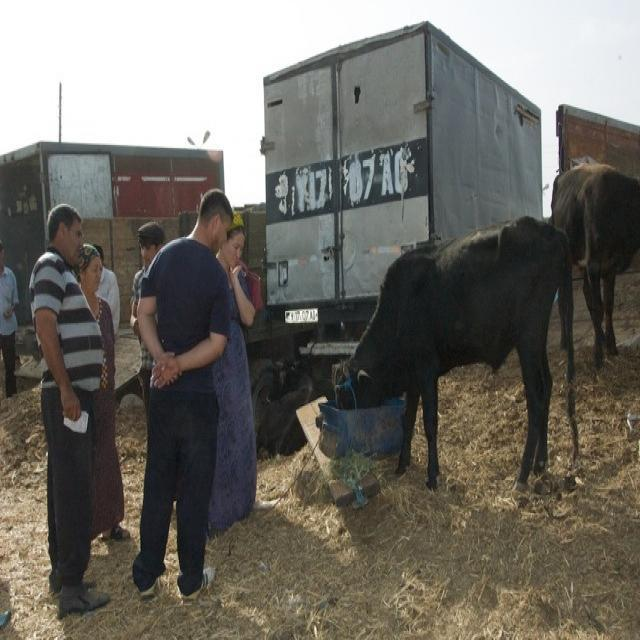cow: (333, 213, 577, 494), (550, 160, 639, 373)
